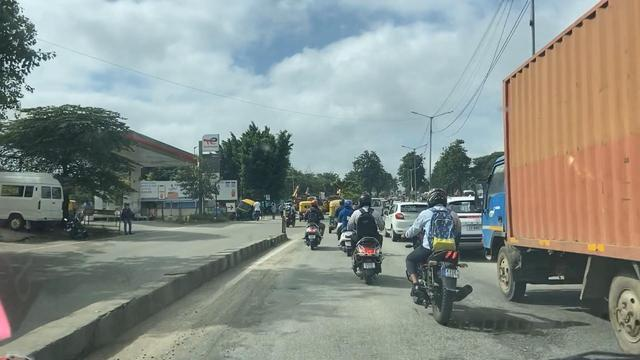LMV: (423, 192, 454, 318), (350, 193, 383, 280), (308, 198, 328, 247)
